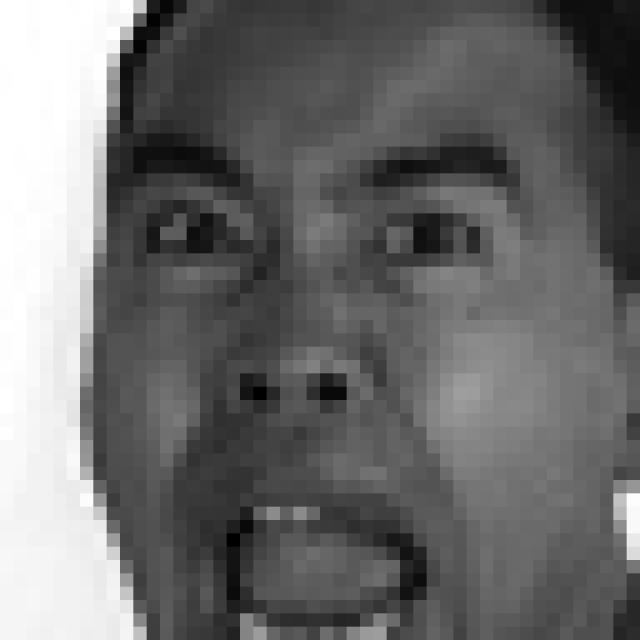fear: (116, 131, 539, 640)
